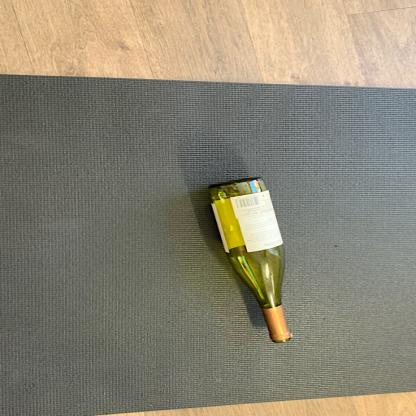trash: (206, 174, 304, 347)
